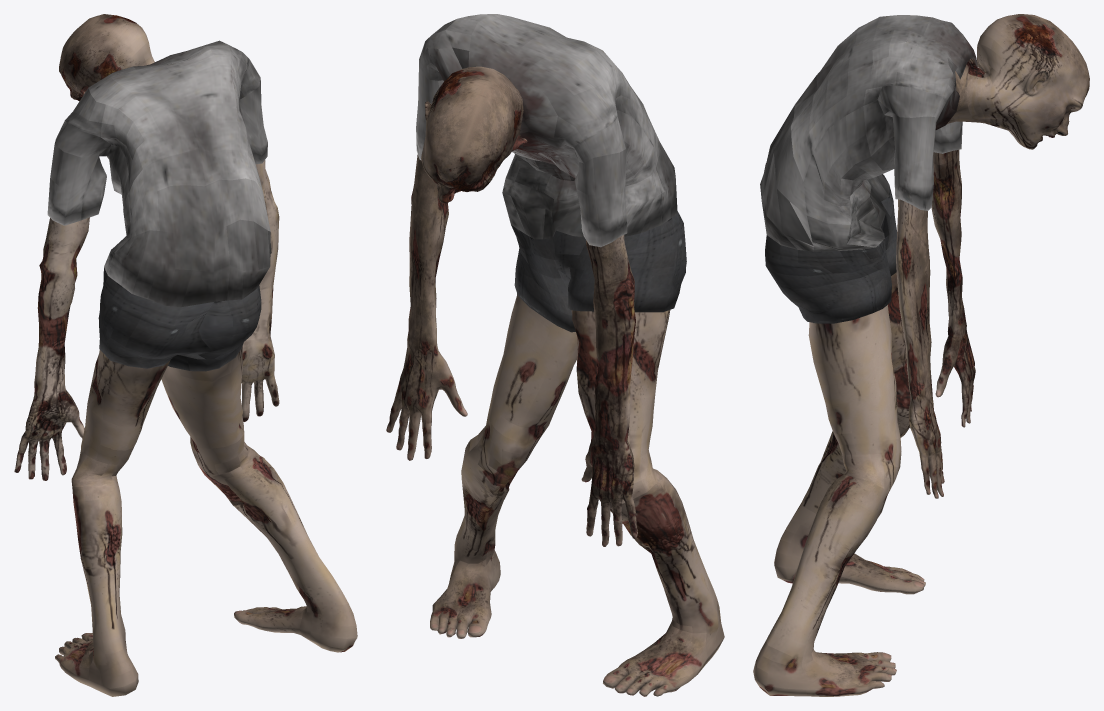
File: zombie.obj
3 renders of one model, left to right at view 1: azimuth 30°, elevation 25°; view 2: azimuth 150°, elevation 25°; view 3: azimuth 270°, elevation 25°, orthographic. The views are drawn at different scales.
Visible parts, largest first — view 1: zombie_zombie_cloth_mat, zombie_zombie_mat; view 2: zombie_zombie_mat, zombie_zombie_cloth_mat; view 3: zombie_zombie_mat, zombie_zombie_cloth_mat.
Boxes of the visible parts, x1,y1,x2,y2 form: zombie_zombie_cloth_mat: [47, 40, 271, 371]; zombie_zombie_mat: [14, 14, 357, 696]; zombie_zombie_mat: [386, 66, 724, 696]; zombie_zombie_cloth_mat: [416, 14, 686, 332]; zombie_zombie_mat: [753, 14, 1089, 696]; zombie_zombie_cloth_mat: [760, 15, 977, 323].
Bounding box in the file's own units: 0.5963 × 1.32 × 0.6534.
Materials: 2 (2 with a texture image).
